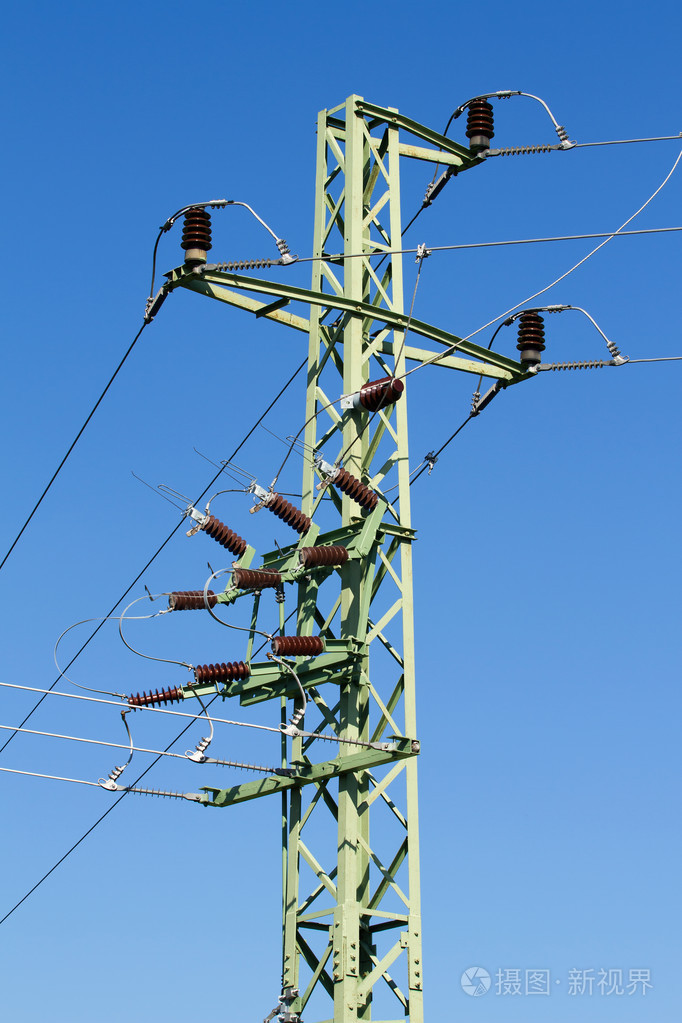insulator: (213, 256, 273, 278), (547, 360, 614, 375), (497, 144, 559, 157)
